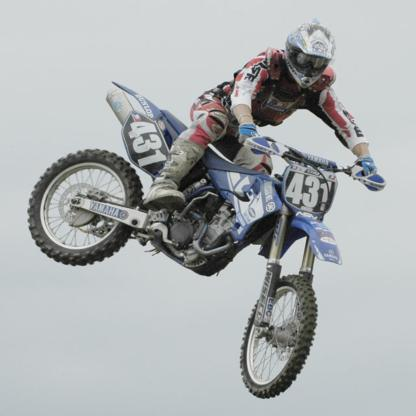Helmet: (288, 22, 338, 78)
